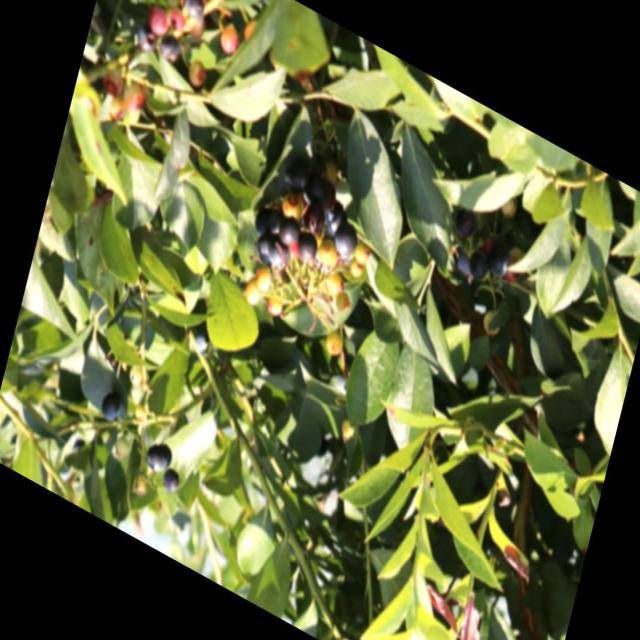blueberry: (464, 244, 495, 287), (484, 241, 514, 284), (332, 217, 361, 261), (97, 388, 126, 428), (450, 206, 477, 247), (274, 212, 302, 251), (294, 228, 320, 268), (299, 175, 325, 213), (254, 203, 280, 240), (281, 162, 305, 200), (147, 440, 172, 476), (321, 198, 344, 234), (158, 466, 180, 496), (158, 34, 178, 64), (137, 23, 156, 54), (308, 151, 326, 182), (180, 0, 206, 21), (267, 239, 286, 267), (197, 0, 231, 2), (165, 0, 189, 1)
blueberry-halfripe: (119, 73, 148, 114), (144, 0, 172, 40), (215, 19, 241, 57), (100, 66, 126, 102), (184, 52, 206, 88), (164, 4, 186, 34)
blueberry-unripe: (315, 234, 340, 273), (321, 266, 347, 303), (321, 323, 345, 359), (280, 190, 304, 224), (240, 274, 262, 310), (252, 263, 274, 294), (352, 239, 372, 269), (263, 290, 284, 318), (346, 256, 365, 282), (338, 414, 356, 441), (333, 288, 351, 314)
